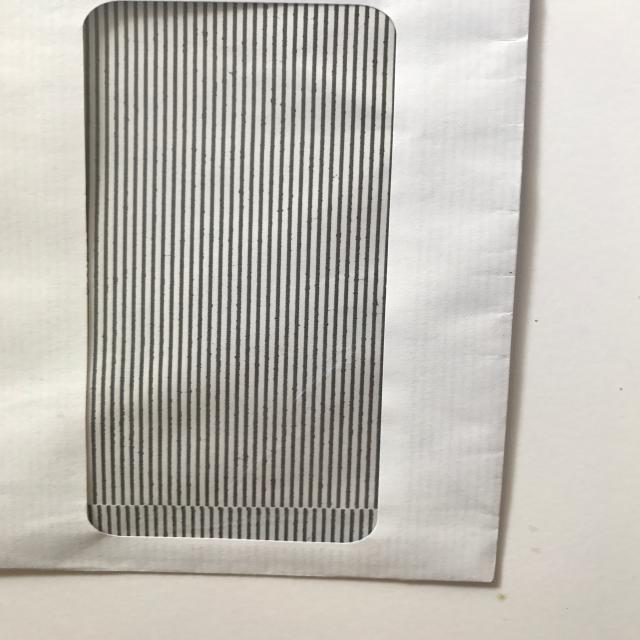paper: (0, 0, 593, 624)
